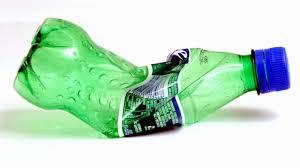plastic: (11, 19, 292, 141)
